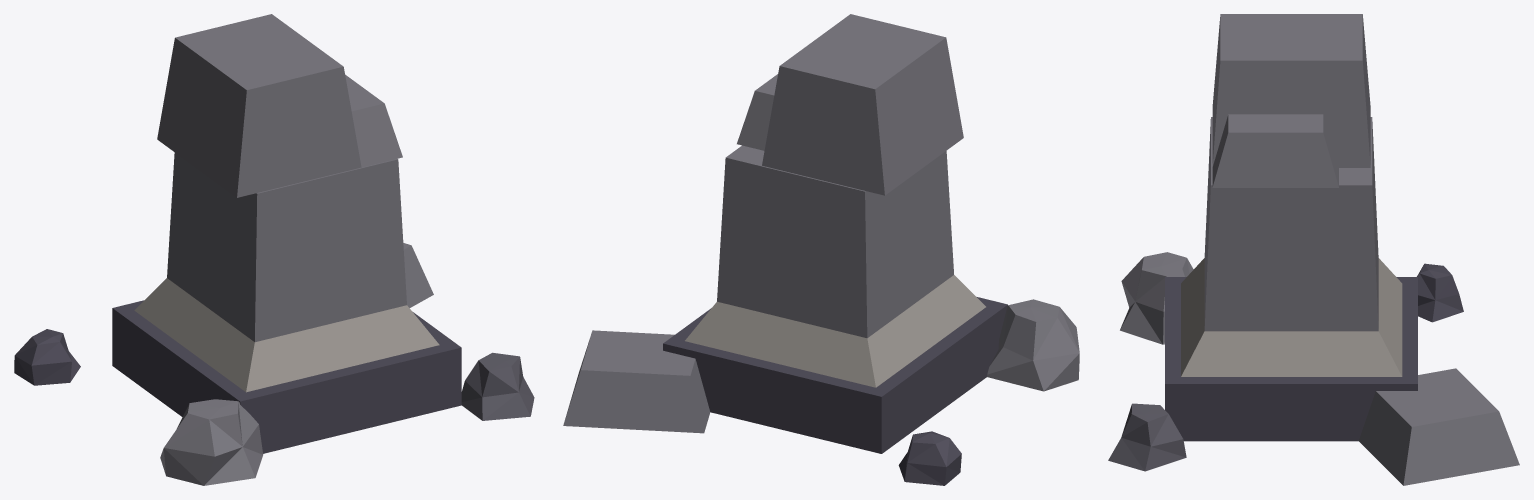
File: pillar_broken.fbx
3 views of the same model, side by side, from view 1: azimuth 30°, elevation 25°; view 2: azimuth 150°, elevation 25°; view 3: azimuth 270°, elevation 25° (orthographic).
Visible parts, largest first — view 1: pillar_broken; view 2: pillar_broken; view 3: pillar_broken.
Boxes of the visible parts, x1,y1,x2,y2 form: pillar_broken: (14,14,534,485); pillar_broken: (563,14,1079,485); pillar_broken: (1108,14,1519,485).
Size of the model in its own units: 2.86 by 2.35 by 2.6.
